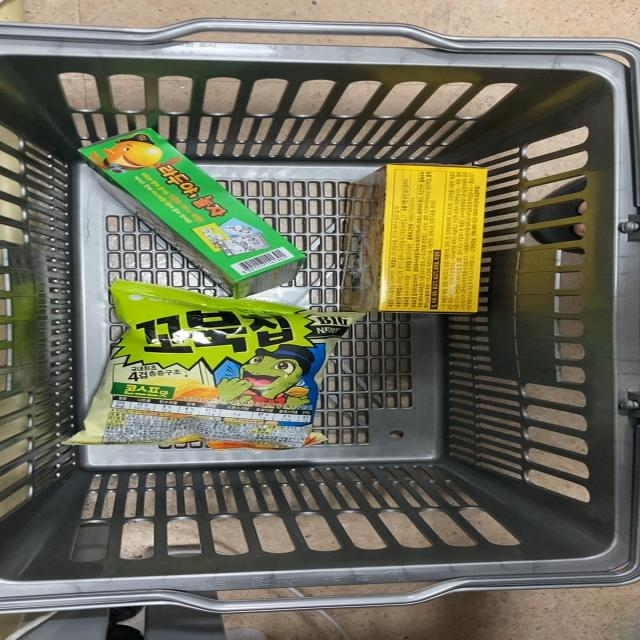ggobukchip: (75, 286, 328, 449)
goraebob: (66, 127, 298, 279)
minicrab: (318, 162, 480, 306)
